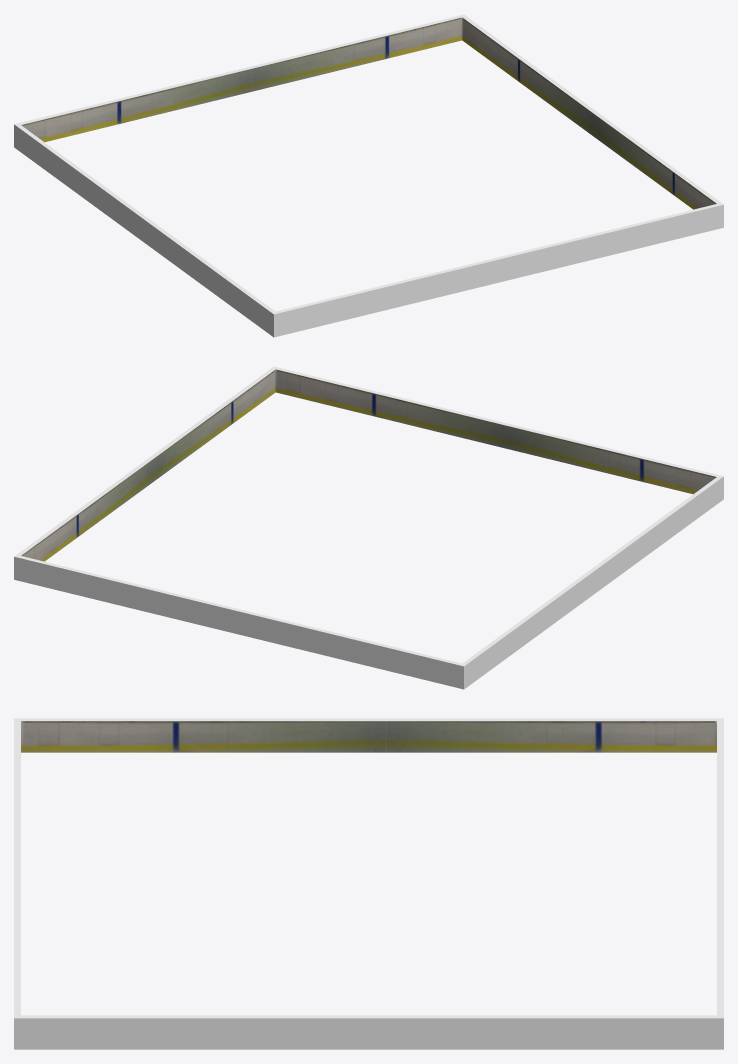
The model's file is bumperRinkWalls.dae.
The picture shows the model from 3 angles, top to bottom: view 1: azimuth 30°, elevation 25°; view 2: azimuth 150°, elevation 25°; view 3: azimuth 270°, elevation 25°; orthographic projection. The views are drawn at different scales.
Visible parts, largest first — view 1: SketchUp (×2); view 2: SketchUp (×2); view 3: SketchUp (×2).
Boxes of the visible parts, x1,y1,x2,y2 form: SketchUp (×2): (14,14,723,337); SketchUp (×2): (14,366,723,689); SketchUp (×2): (14,718,723,1049).
Size of the model in its own units: 402 by 402 by 19.69.
Materials: 2 (1 with a texture image).
